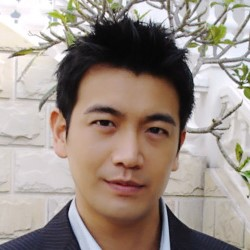unmask: (63, 60, 182, 223)
